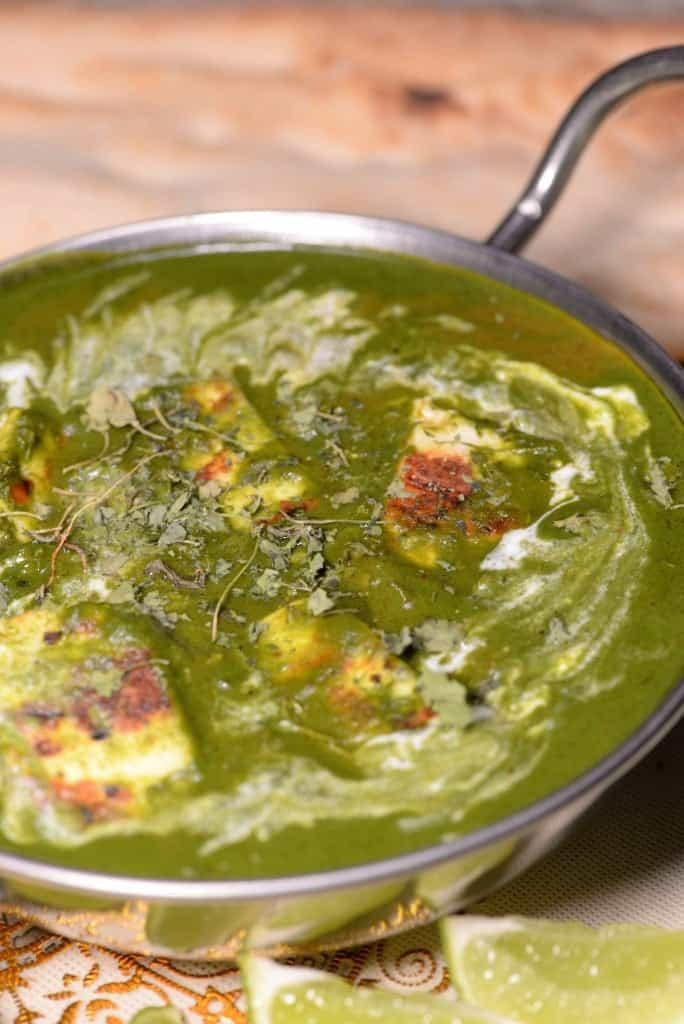PalakPaneer: (0, 240, 684, 878)
